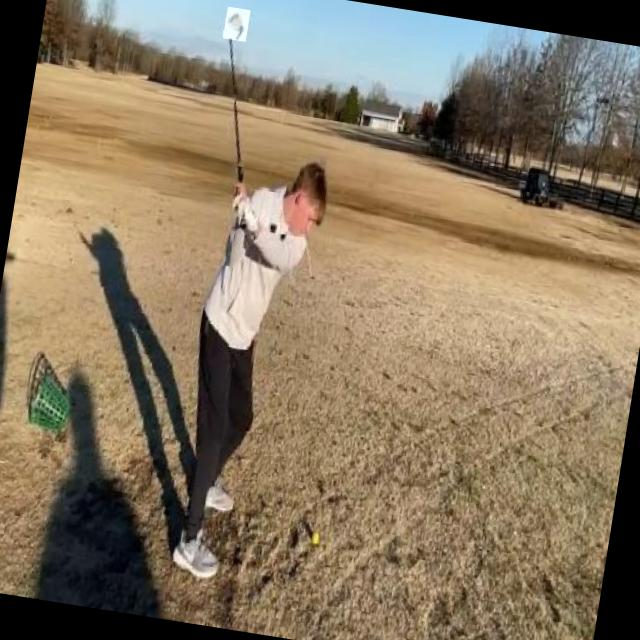club head: (222, 7, 250, 42)
